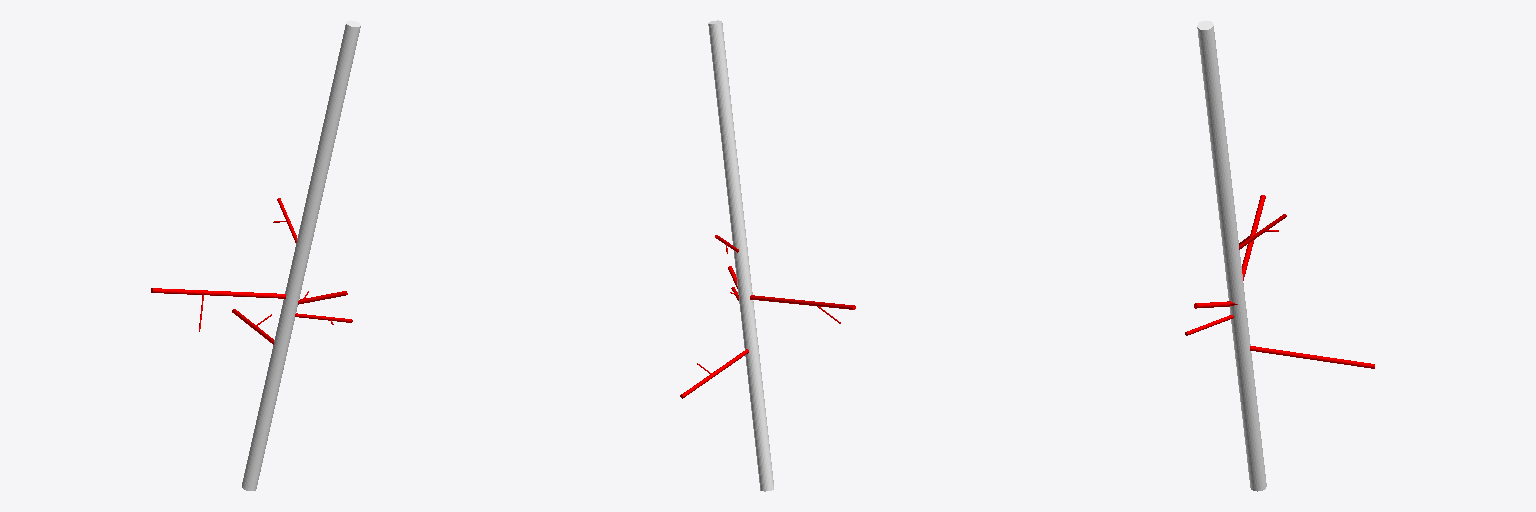
robot.urdf — tree_47.urdf:
<?xml version='1.0' encoding='UTF-8'?>
<robot name="tree_47.urdf">
  <link name="branch_0">
    <inertial>
      <origin xyz="0.0 0.0 0.0" rpy="0.0 -0.0 0.0"/>
      <mass value="0.1"/>
      <inertia ixx="0.001" ixy="0.0" ixz="0.0" iyy="0.001" iyz="0.0" izz="0.001"/>
    </inertial>
    <visual name="branch_0_visual">
      <geometry>
        <cylinder radius="0.10265535078924243" length="7.00975740051971"/>
      </geometry>
      <material name="branch_material"/>
      <origin xyz="0.6235881320388925 -0.32846837745877794 3.433281385223916" rpy="0.0 0.2024738610835184 -0.4848095155126251"/>
    </visual>
    <collision name="branch_0_collision">
      <geometry>
        <cylinder radius="0.10265535078924243" length="7.00975740051971"/>
      </geometry>
      <origin xyz="0.6235881320388925 -0.32846837745877794 3.433281385223916" rpy="0.0 0.2024738610835184 -0.4848095155126251"/>
    </collision>
  </link>
  <link name="branch_1">
    <inertial>
      <origin xyz="0.0 0.0 0.0" rpy="0.0 -0.0 0.0"/>
      <mass value="0.1"/>
      <inertia ixx="0.001" ixy="0.0" ixz="0.0" iyy="0.001" iyz="0.0" izz="0.001"/>
    </inertial>
    <visual name="branch_1_visual">
      <geometry>
        <cylinder radius="0.02509201847786662" length="0.8549794439555949"/>
      </geometry>
      <material name="semantic_material"/>
      <origin xyz="0.0 0.0 0.0" rpy="0.0 -0.0 0.0"/>
    </visual>
    <collision name="branch_1_collision">
      <geometry>
        <cylinder radius="0.02509201847786662" length="0.8549794439555949"/>
      </geometry>
      <origin xyz="0.0 0.0 0.0" rpy="0.0 -0.0 0.0"/>
    </collision>
  </link>
  <link name="branch_2">
    <inertial>
      <origin xyz="0.0 0.0 0.0" rpy="0.0 -0.0 0.0"/>
      <mass value="0.1"/>
      <inertia ixx="0.001" ixy="0.0" ixz="0.0" iyy="0.001" iyz="0.0" izz="0.001"/>
    </inertial>
    <visual name="branch_2_visual">
      <geometry>
        <cylinder radius="0.01" length="0.2278385299032619"/>
      </geometry>
      <material name="semantic_material"/>
      <origin xyz="0.0 0.0 0.0" rpy="0.0 -0.0 0.0"/>
    </visual>
    <collision name="branch_2_collision">
      <geometry>
        <cylinder radius="0.01" length="0.2278385299032619"/>
      </geometry>
      <origin xyz="0.0 0.0 0.0" rpy="0.0 -0.0 0.0"/>
    </collision>
  </link>
  <link name="branch_3">
    <inertial>
      <origin xyz="0.0 0.0 0.0" rpy="0.0 -0.0 0.0"/>
      <mass value="0.1"/>
      <inertia ixx="0.001" ixy="0.0" ixz="0.0" iyy="0.001" iyz="0.0" izz="0.001"/>
    </inertial>
    <visual name="branch_3_visual">
      <geometry>
        <cylinder radius="0.030581521189714925" length="1.6554738600175345"/>
      </geometry>
      <material name="semantic_material"/>
      <origin xyz="0.0 0.0 0.0" rpy="0.0 -0.0 0.0"/>
    </visual>
    <collision name="branch_3_collision">
      <geometry>
        <cylinder radius="0.030581521189714925" length="1.6554738600175345"/>
      </geometry>
      <origin xyz="0.0 0.0 0.0" rpy="0.0 -0.0 0.0"/>
    </collision>
  </link>
  <link name="branch_4">
    <inertial>
      <origin xyz="0.0 0.0 0.0" rpy="0.0 -0.0 0.0"/>
      <mass value="0.1"/>
      <inertia ixx="0.001" ixy="0.0" ixz="0.0" iyy="0.001" iyz="0.0" izz="0.001"/>
    </inertial>
    <visual name="branch_4_visual">
      <geometry>
        <cylinder radius="0.010106983233369615" length="0.2886646860121988"/>
      </geometry>
      <material name="semantic_material"/>
      <origin xyz="0.0 0.0 0.0" rpy="0.0 -0.0 0.0"/>
    </visual>
    <collision name="branch_4_collision">
      <geometry>
        <cylinder radius="0.010106983233369615" length="0.2886646860121988"/>
      </geometry>
      <origin xyz="0.0 0.0 0.0" rpy="0.0 -0.0 0.0"/>
    </collision>
  </link>
  <link name="branch_5">
    <inertial>
      <origin xyz="0.0 0.0 0.0" rpy="0.0 -0.0 0.0"/>
      <mass value="0.1"/>
      <inertia ixx="0.001" ixy="0.0" ixz="0.0" iyy="0.001" iyz="0.0" izz="0.001"/>
    </inertial>
    <visual name="branch_5_visual">
      <geometry>
        <cylinder radius="0.03326417102072468" length="2.0616060463987496"/>
      </geometry>
      <material name="semantic_material"/>
      <origin xyz="0.0 0.0 0.0" rpy="0.0 -0.0 0.0"/>
    </visual>
    <collision name="branch_5_collision">
      <geometry>
        <cylinder radius="0.03326417102072468" length="2.0616060463987496"/>
      </geometry>
      <origin xyz="0.0 0.0 0.0" rpy="0.0 -0.0 0.0"/>
    </collision>
  </link>
  <link name="branch_6">
    <inertial>
      <origin xyz="0.0 0.0 0.0" rpy="0.0 -0.0 0.0"/>
      <mass value="0.1"/>
      <inertia ixx="0.001" ixy="0.0" ixz="0.0" iyy="0.001" iyz="0.0" izz="0.001"/>
    </inertial>
    <visual name="branch_6_visual">
      <geometry>
        <cylinder radius="0.010891754932784643" length="0.5639692236595578"/>
      </geometry>
      <material name="semantic_material"/>
      <origin xyz="0.0 0.0 0.0" rpy="0.0 -0.0 0.0"/>
    </visual>
    <collision name="branch_6_collision">
      <geometry>
        <cylinder radius="0.010891754932784643" length="0.5639692236595578"/>
      </geometry>
      <origin xyz="0.0 0.0 0.0" rpy="0.0 -0.0 0.0"/>
    </collision>
  </link>
  <link name="branch_7">
    <inertial>
      <origin xyz="0.0 0.0 0.0" rpy="0.0 -0.0 0.0"/>
      <mass value="0.1"/>
      <inertia ixx="0.001" ixy="0.0" ixz="0.0" iyy="0.001" iyz="0.0" izz="0.001"/>
    </inertial>
    <visual name="branch_7_visual">
      <geometry>
        <cylinder radius="0.02552098024310124" length="0.8963457276524543"/>
      </geometry>
      <material name="semantic_material"/>
      <origin xyz="0.0 0.0 0.0" rpy="0.0 -0.0 0.0"/>
    </visual>
    <collision name="branch_7_collision">
      <geometry>
        <cylinder radius="0.02552098024310124" length="0.8963457276524543"/>
      </geometry>
      <origin xyz="0.0 0.0 0.0" rpy="0.0 -0.0 0.0"/>
    </collision>
  </link>
  <link name="branch_8">
    <inertial>
      <origin xyz="0.0 0.0 0.0" rpy="0.0 -0.0 0.0"/>
      <mass value="0.1"/>
      <inertia ixx="0.001" ixy="0.0" ixz="0.0" iyy="0.001" iyz="0.0" izz="0.001"/>
    </inertial>
    <visual name="branch_8_visual">
      <geometry>
        <cylinder radius="0.01" length="0.10962315796607225"/>
      </geometry>
      <material name="semantic_material"/>
      <origin xyz="0.0 0.0 0.0" rpy="0.0 -0.0 0.0"/>
    </visual>
    <collision name="branch_8_collision">
      <geometry>
        <cylinder radius="0.01" length="0.10962315796607225"/>
      </geometry>
      <origin xyz="0.0 0.0 0.0" rpy="0.0 -0.0 0.0"/>
    </collision>
  </link>
  <link name="branch_9">
    <inertial>
      <origin xyz="0.0 0.0 0.0" rpy="0.0 -0.0 0.0"/>
      <mass value="0.1"/>
      <inertia ixx="0.001" ixy="0.0" ixz="0.0" iyy="0.001" iyz="0.0" izz="0.001"/>
    </inertial>
    <visual name="branch_9_visual">
      <geometry>
        <cylinder radius="0.03202119465582325" length="0.8080532561811025"/>
      </geometry>
      <material name="semantic_material"/>
      <origin xyz="0.0 0.0 0.0" rpy="0.0 -0.0 0.0"/>
    </visual>
    <collision name="branch_9_collision">
      <geometry>
        <cylinder radius="0.03202119465582325" length="0.8080532561811025"/>
      </geometry>
      <origin xyz="0.0 0.0 0.0" rpy="0.0 -0.0 0.0"/>
    </collision>
  </link>
  <link name="branch_10">
    <inertial>
      <origin xyz="0.0 0.0 0.0" rpy="0.0 -0.0 0.0"/>
      <mass value="0.1"/>
      <inertia ixx="0.001" ixy="0.0" ixz="0.0" iyy="0.001" iyz="0.0" izz="0.001"/>
    </inertial>
    <visual name="branch_10_visual">
      <geometry>
        <cylinder radius="0.01" length="0.20722268826399556"/>
      </geometry>
      <material name="semantic_material"/>
      <origin xyz="0.0 0.0 0.0" rpy="0.0 -0.0 0.0"/>
    </visual>
    <collision name="branch_10_collision">
      <geometry>
        <cylinder radius="0.01" length="0.20722268826399556"/>
      </geometry>
      <origin xyz="0.0 0.0 0.0" rpy="0.0 -0.0 0.0"/>
    </collision>
  </link>
  <joint name="joint_0_1" type="fixed">
    <parent link="branch_0"/>
    <child link="branch_1"/>
    <axis xyz="1. 0. 0."/>
    <origin xyz="0.6444916097321014 0.002876032567293167 3.742720729505931" rpy="0.26668719829062537 0.8746864224344011 1.8749259598059647"/>
  </joint>
  <joint name="joint_0_3" type="fixed">
    <parent link="branch_0"/>
    <child link="branch_3"/>
    <axis xyz="1. 0. 0."/>
    <origin xyz="0.4862844387386186 0.6176706358939763 1.9958520636924786" rpy="2.04966201754487 1.354511454447836 -2.8049148304097633"/>
  </joint>
  <joint name="joint_0_5" type="fixed">
    <parent link="branch_0"/>
    <child link="branch_5"/>
    <axis xyz="1. 0. 0."/>
    <origin xyz="-0.4811491897655268 -0.10782068688534978 3.0438503703618367" rpy="-0.29491318266794253 1.3545620591099785 2.6776349556598507"/>
  </joint>
  <joint name="joint_0_7" type="fixed">
    <parent link="branch_0"/>
    <child link="branch_7"/>
    <axis xyz="1. 0. 0."/>
    <origin xyz="0.776388109921261 -0.5695966345607971 2.577363952397872" rpy="-1.2972048583173272 1.5030174805616006 -2.1053733012194074"/>
  </joint>
  <joint name="joint_0_9" type="fixed">
    <parent link="branch_0"/>
    <child link="branch_9"/>
    <axis xyz="1. 0. 0."/>
    <origin xyz="0.7831913295155344 -0.51898240922288 2.8438845776057176" rpy="-0.1812617832973609 1.271656425799868 -0.9203303664943594"/>
  </joint>
  <joint name="joint_1_2" type="fixed">
    <parent link="branch_0"/>
    <child link="branch_2"/>
    <axis xyz="1. 0. 0."/>
    <origin xyz="0.5862218586206561 0.15321984125251545 3.7573731437474773" rpy="2.092118580238305 0.9698747308985083 -2.112460104491106"/>
  </joint>
  <joint name="joint_3_4" type="fixed">
    <parent link="branch_0"/>
    <child link="branch_4"/>
    <axis xyz="1. 0. 0."/>
    <origin xyz="0.6293734202690816 0.7085110274242122 2.047859647397575" rpy="-1.1277413326460608 -0.12381538797379897 -1.6512860089394448"/>
  </joint>
  <joint name="joint_5_6" type="fixed">
    <parent link="branch_0"/>
    <child link="branch_6"/>
    <axis xyz="1. 0. 0."/>
    <origin xyz="-0.8683993751661975 -0.22684561996337338 2.9058225105990356" rpy="2.392953113043502 0.3566264818733933 -0.3014766908330229"/>
  </joint>
  <joint name="joint_7_8" type="fixed">
    <parent link="branch_0"/>
    <child link="branch_8"/>
    <axis xyz="1. 0. 0."/>
    <origin xyz="0.8668088242843625 -0.7223129703794064 2.5577100138287028" rpy="-2.007865212094829 0.2839957584675199 2.8419822798752583"/>
  </joint>
  <joint name="joint_9_10" type="fixed">
    <parent link="branch_0"/>
    <child link="branch_10"/>
    <axis xyz="1. 0. 0."/>
    <origin xyz="0.6969225300942381 -0.31520659148197766 2.8105368504661343" rpy="1.2196563344818192 0.18933268877391374 2.078264735970011"/>
  </joint>
  <material name="branch_material">
    <color rgba="1. 1. 1. 1."/>
  </material>
  <material name="semantic_material">
    <color rgba="1. 0. 0. 1."/>
  </material>
</robot>

--- Facts derived from the render (not from the file) ---
Views: 3 orthographic renders of the robot side by side, from view 1: azimuth 30°, elevation 25°; view 2: azimuth 150°, elevation 25°; view 3: azimuth 270°, elevation 25°.
Model tree_47.urdf with 11 links and 10 joints (10 fixed), rooted at branch_0, posed every joint at zero.
Links seen in each view (by area): view 1: branch_0, branch_5; view 2: branch_0; view 3: branch_0, branch_3.
Link boxes in pixels (x1,y1,x2,y2): branch_0: (242,20,360,490); branch_5: (151,288,285,298); branch_0: (708,20,773,491); branch_0: (1197,20,1266,491); branch_3: (1250,346,1374,368).
Size in the robot's own frame: 2.83 by 2.35 by 6.91 metres.
Geometry: primitives only (box / cylinder / sphere), no mesh files.
